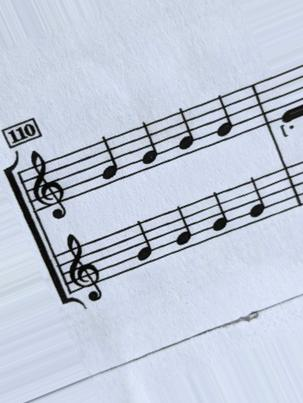G: (135, 121, 168, 168), (96, 136, 125, 180), (171, 204, 200, 248), (130, 219, 158, 264), (172, 109, 200, 153), (205, 193, 235, 233), (211, 96, 238, 139)
